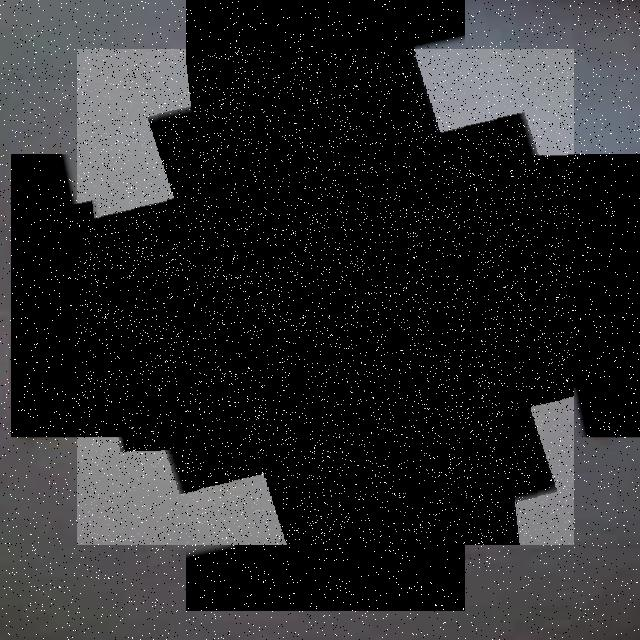lima puluh ribu rupiah: (77, 49, 574, 545)
